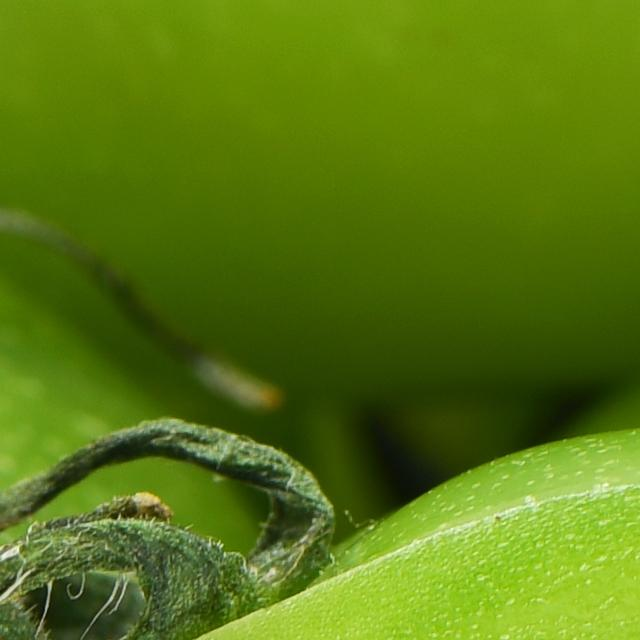tomato: (0, 0, 640, 230)
